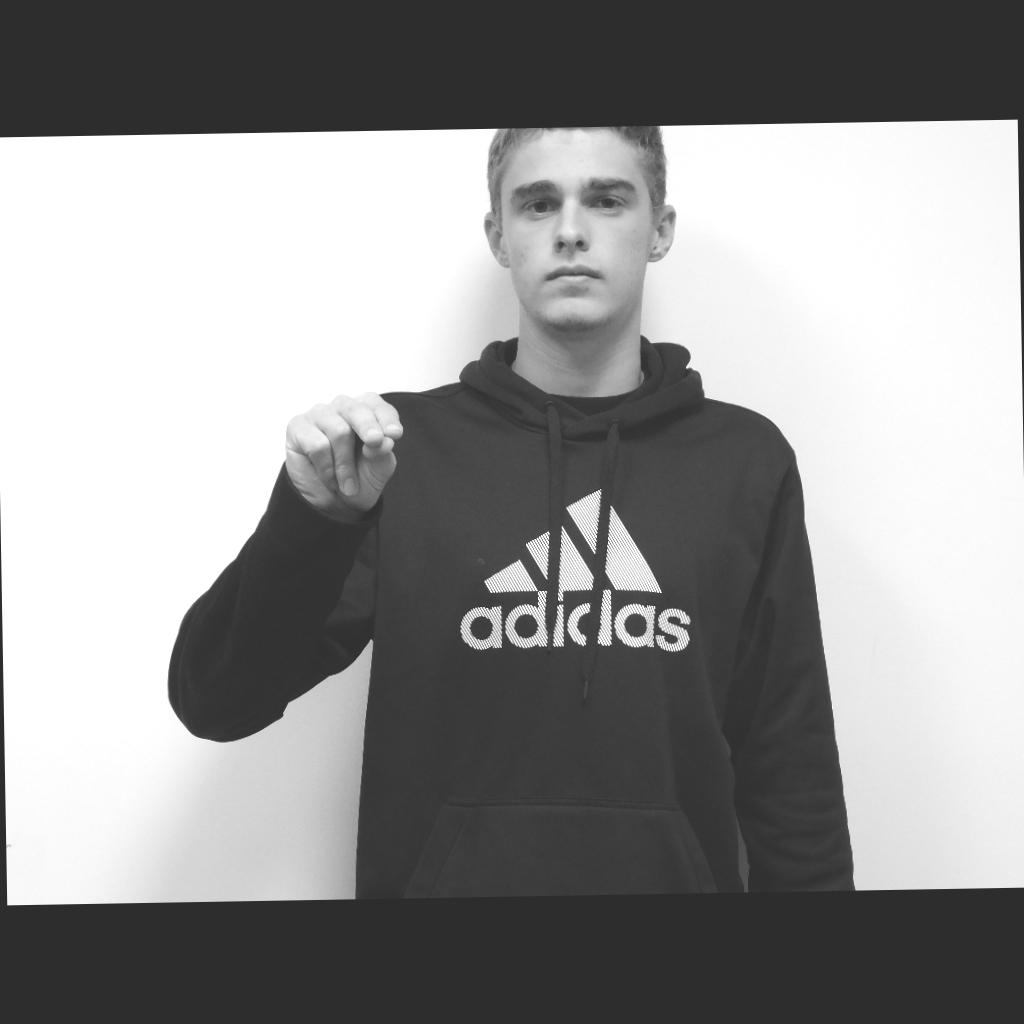no: (285, 392, 405, 510)
